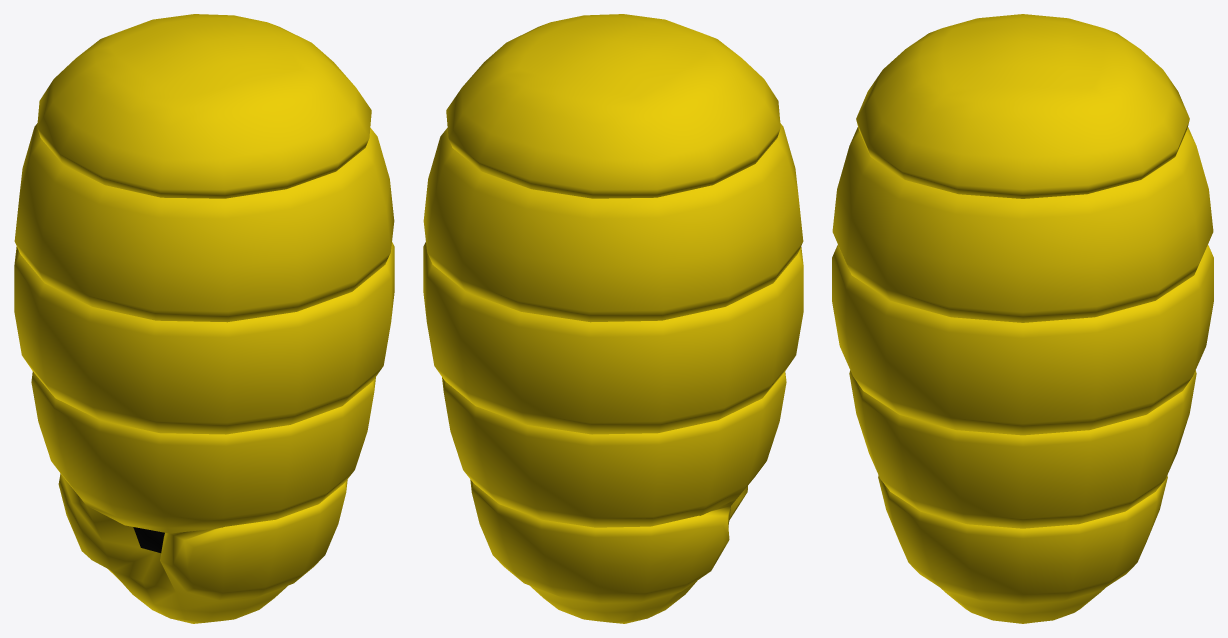
File: hive.fbx
The picture shows the model from 3 angles, left to right: view 1: azimuth 30°, elevation 25°; view 2: azimuth 150°, elevation 25°; view 3: azimuth 270°, elevation 25°; orthographic projection.
Parts seen in each view (by area): view 1: Cube; view 2: Cube; view 3: Cube.
Boxes of the visible parts, <box> form: Cube: <box>14,14,394,623</box>; Cube: <box>423,14,803,623</box>; Cube: <box>832,14,1213,623</box>.
Size of the model in its own units: 166 by 275 by 166.
